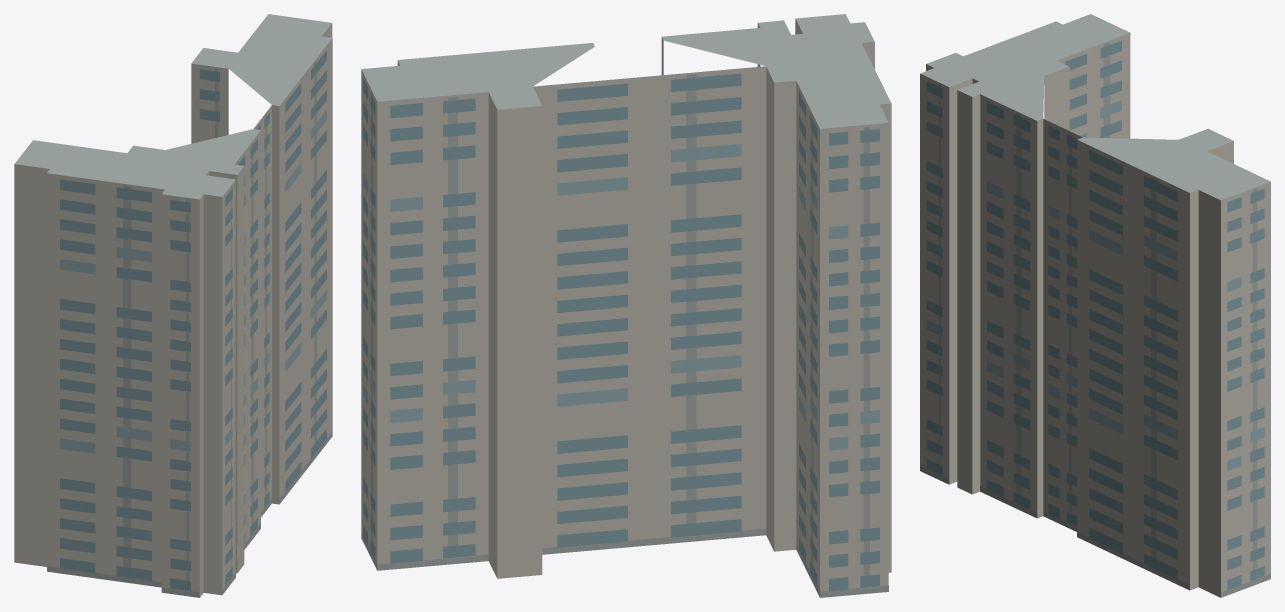
File: residential-caeb8e82-20c8-4d5c-84ed-dad4e5fe43ba.glb
The picture shows the model from 3 angles, left to right: view 1: azimuth 30°, elevation 25°; view 2: azimuth 150°, elevation 25°; view 3: azimuth 270°, elevation 25°; orthographic projection. The views are drawn at different scales.
Visible parts, largest first — view 1: residential-caeb8e82-20c8-4d5c-84ed-dad4e5fe43ba.tmp; view 2: residential-caeb8e82-20c8-4d5c-84ed-dad4e5fe43ba.tmp; view 3: residential-caeb8e82-20c8-4d5c-84ed-dad4e5fe43ba.tmp.
Part boxes in pixels (left/top/right/bottom): residential-caeb8e82-20c8-4d5c-84ed-dad4e5fe43ba.tmp: left=14, top=14, right=332, bottom=597; residential-caeb8e82-20c8-4d5c-84ed-dad4e5fe43ba.tmp: left=361, top=14, right=891, bottom=597; residential-caeb8e82-20c8-4d5c-84ed-dad4e5fe43ba.tmp: left=920, top=14, right=1270, bottom=597.
Size of the model in its own units: 60.35 by 60 by 48.01.
